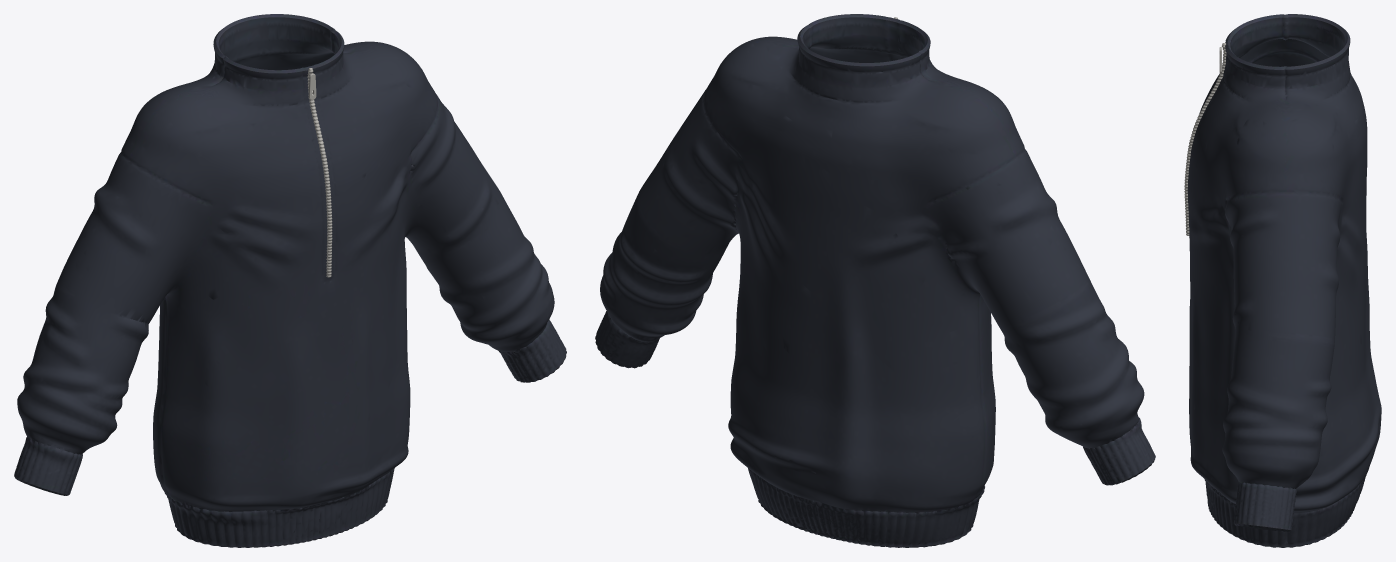
Rendered from 06_sudadera_media_cremallera_pbr.glb.
3 views of the same model, side by side, from view 1: azimuth 30°, elevation 25°; view 2: azimuth 150°, elevation 25°; view 3: azimuth 270°, elevation 25° (orthographic). The views are drawn at different scales.
Parts seen in each view (by area): view 1: Camiseta PBR, Cremallera; view 2: Camiseta PBR; view 3: Camiseta PBR, Cremallera.
Part boxes in pixels (x1,y1,x2,y2): Camiseta PBR: [14, 14, 566, 547]; Cremallera: [307, 68, 332, 277]; Camiseta PBR: [595, 14, 1155, 547]; Camiseta PBR: [1187, 14, 1381, 547]; Cremallera: [1184, 43, 1226, 235].
Size of the model in its own units: 0.982 by 0.8117 by 0.3134.
Materials: 2 (1 with a texture image).
